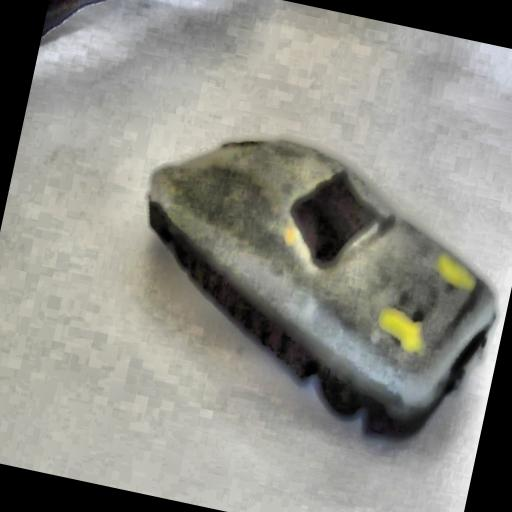normal_car: (101, 105, 512, 459)
